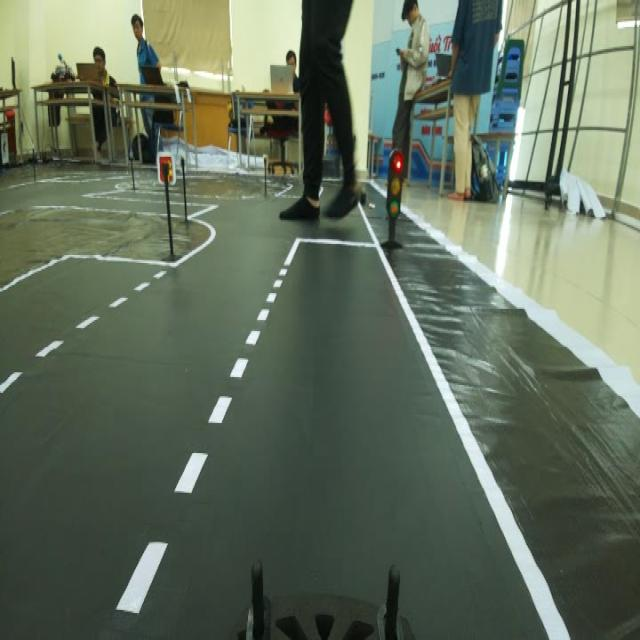trafficlight: (375, 140, 415, 267)
